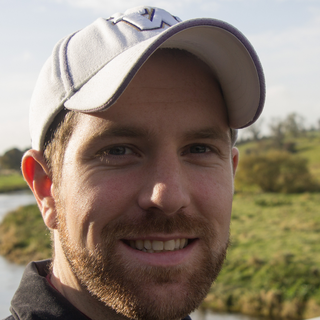eye: (93, 141, 145, 164), (175, 139, 222, 164)
